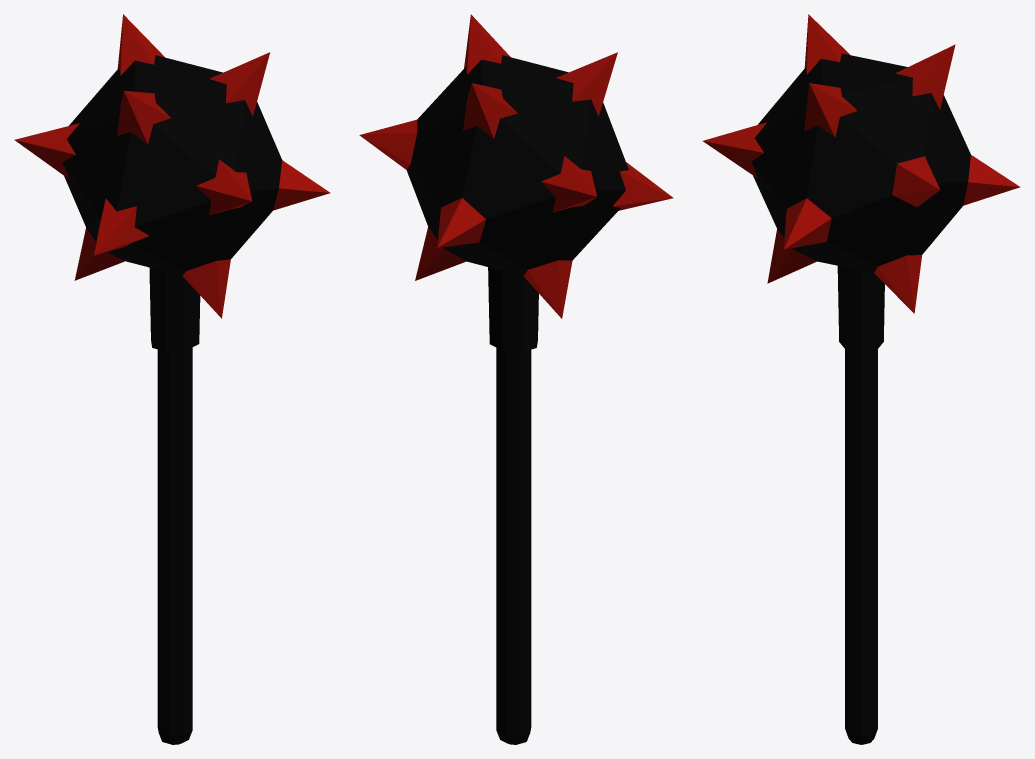
The model's file is Mace.fbx.
3 views of the same model, side by side, from view 1: azimuth 30°, elevation 25°; view 2: azimuth 150°, elevation 25°; view 3: azimuth 270°, elevation 25° (orthographic).
Parts seen in each view (by area): view 1: Mace; view 2: Mace; view 3: Mace.
Part boxes in pixels (box(x1,y1,x2,y2)): Mace: box(14, 14, 330, 744); Mace: box(359, 14, 673, 744); Mace: box(703, 14, 1020, 744).
Bounding box in the file's own units: 220 × 612 × 254.
